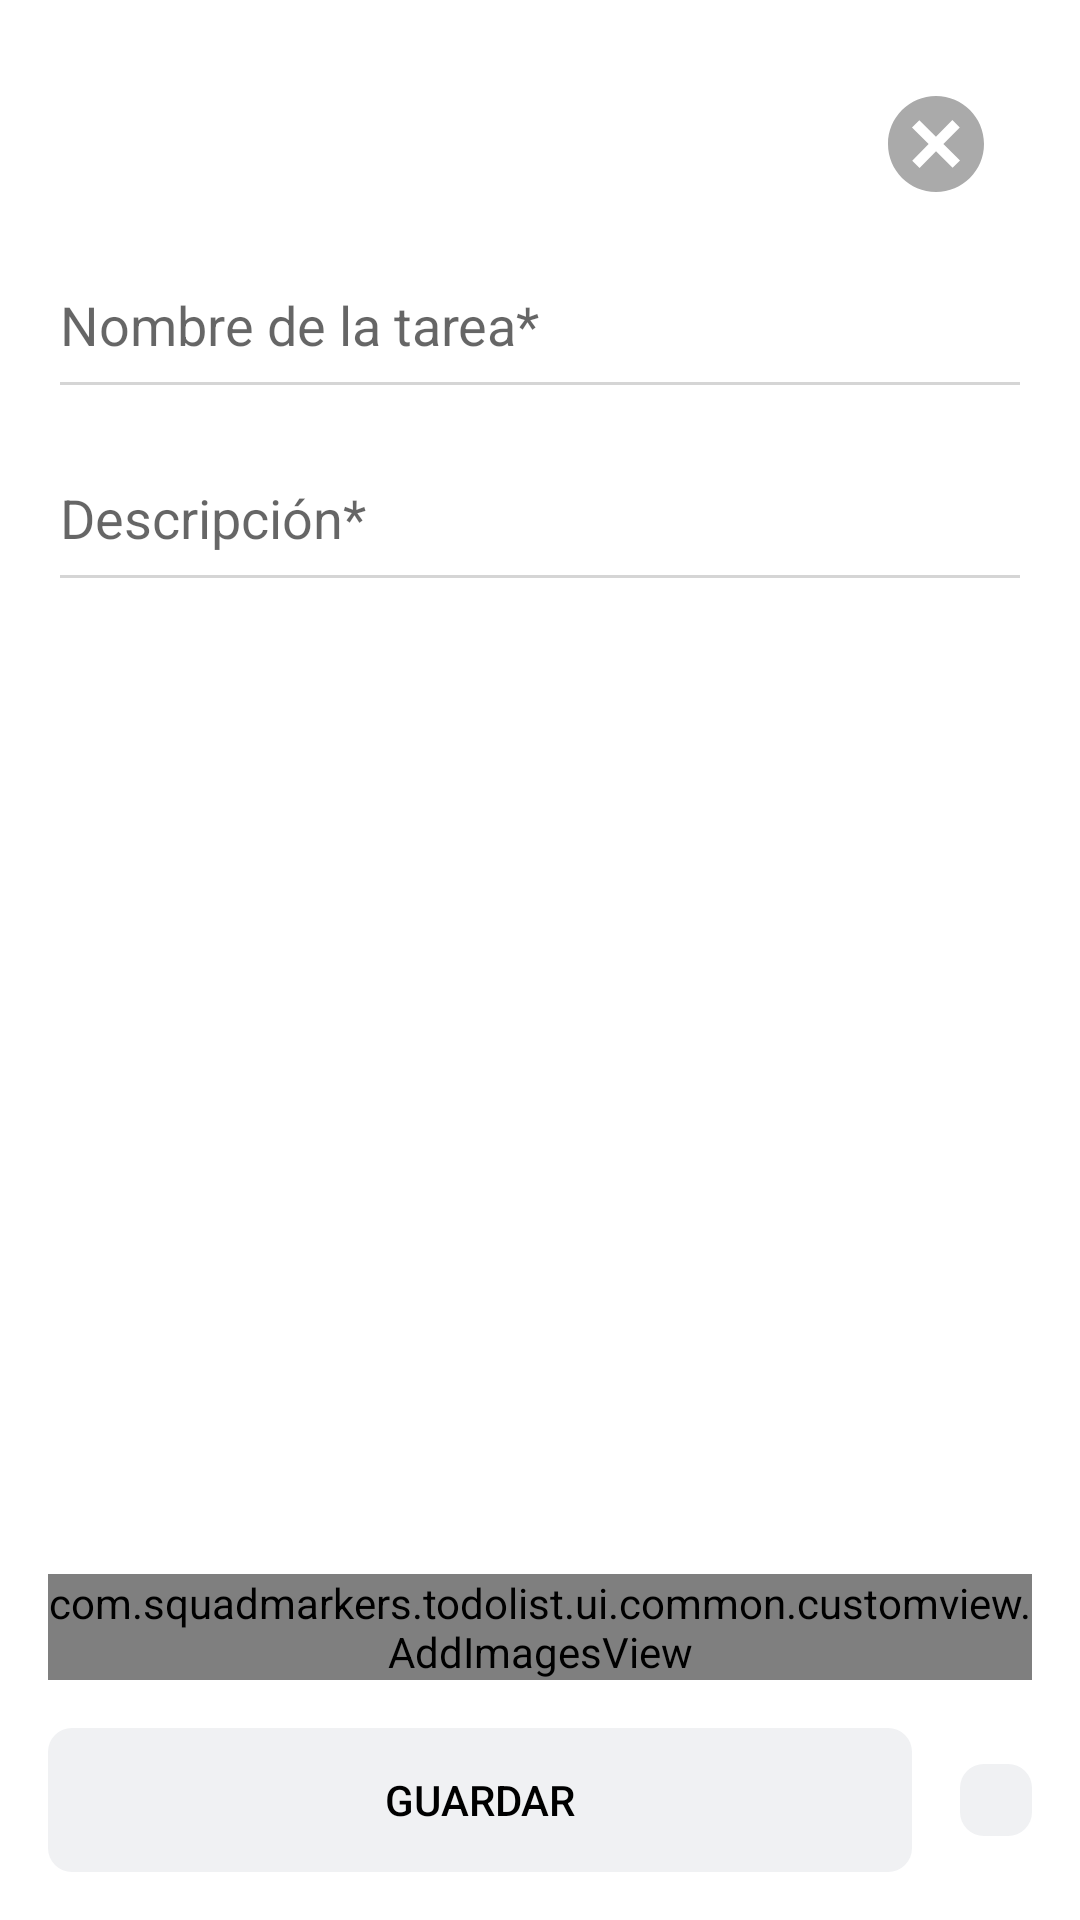

Where icons sit on this 1080*1920 app screen, as (x1, y1, x2, y2):
close: (888, 96, 984, 192)
